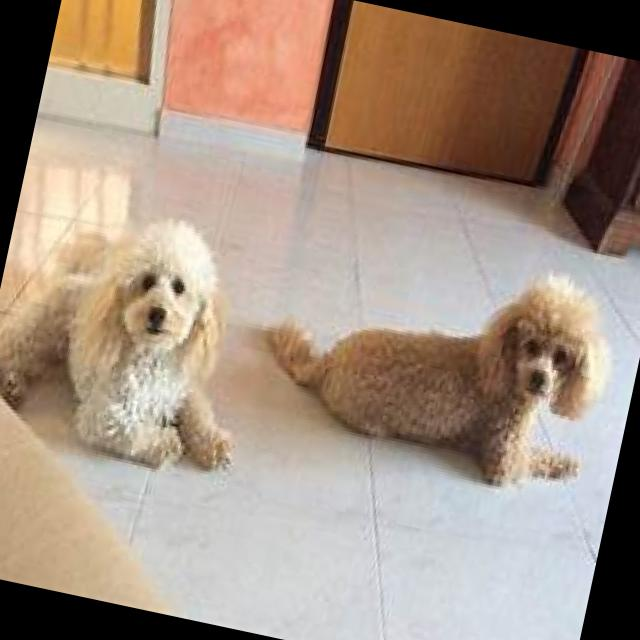dog: (242, 214, 628, 504), (0, 181, 281, 482)
